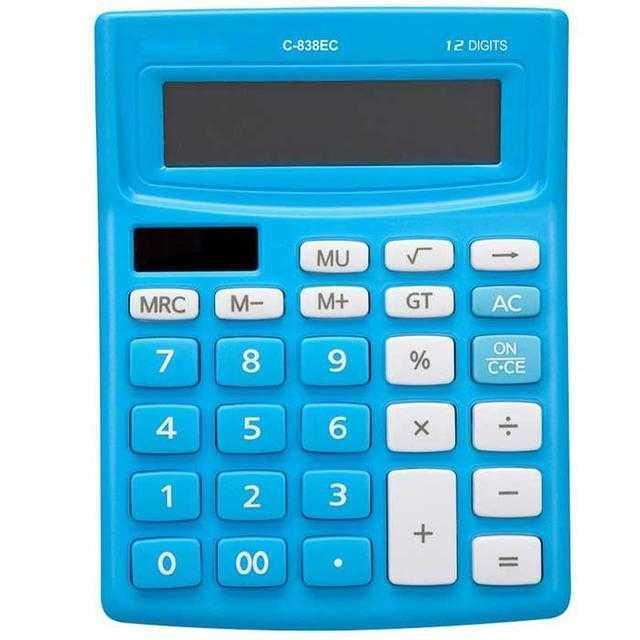Calculator: (94, 7, 570, 630)
